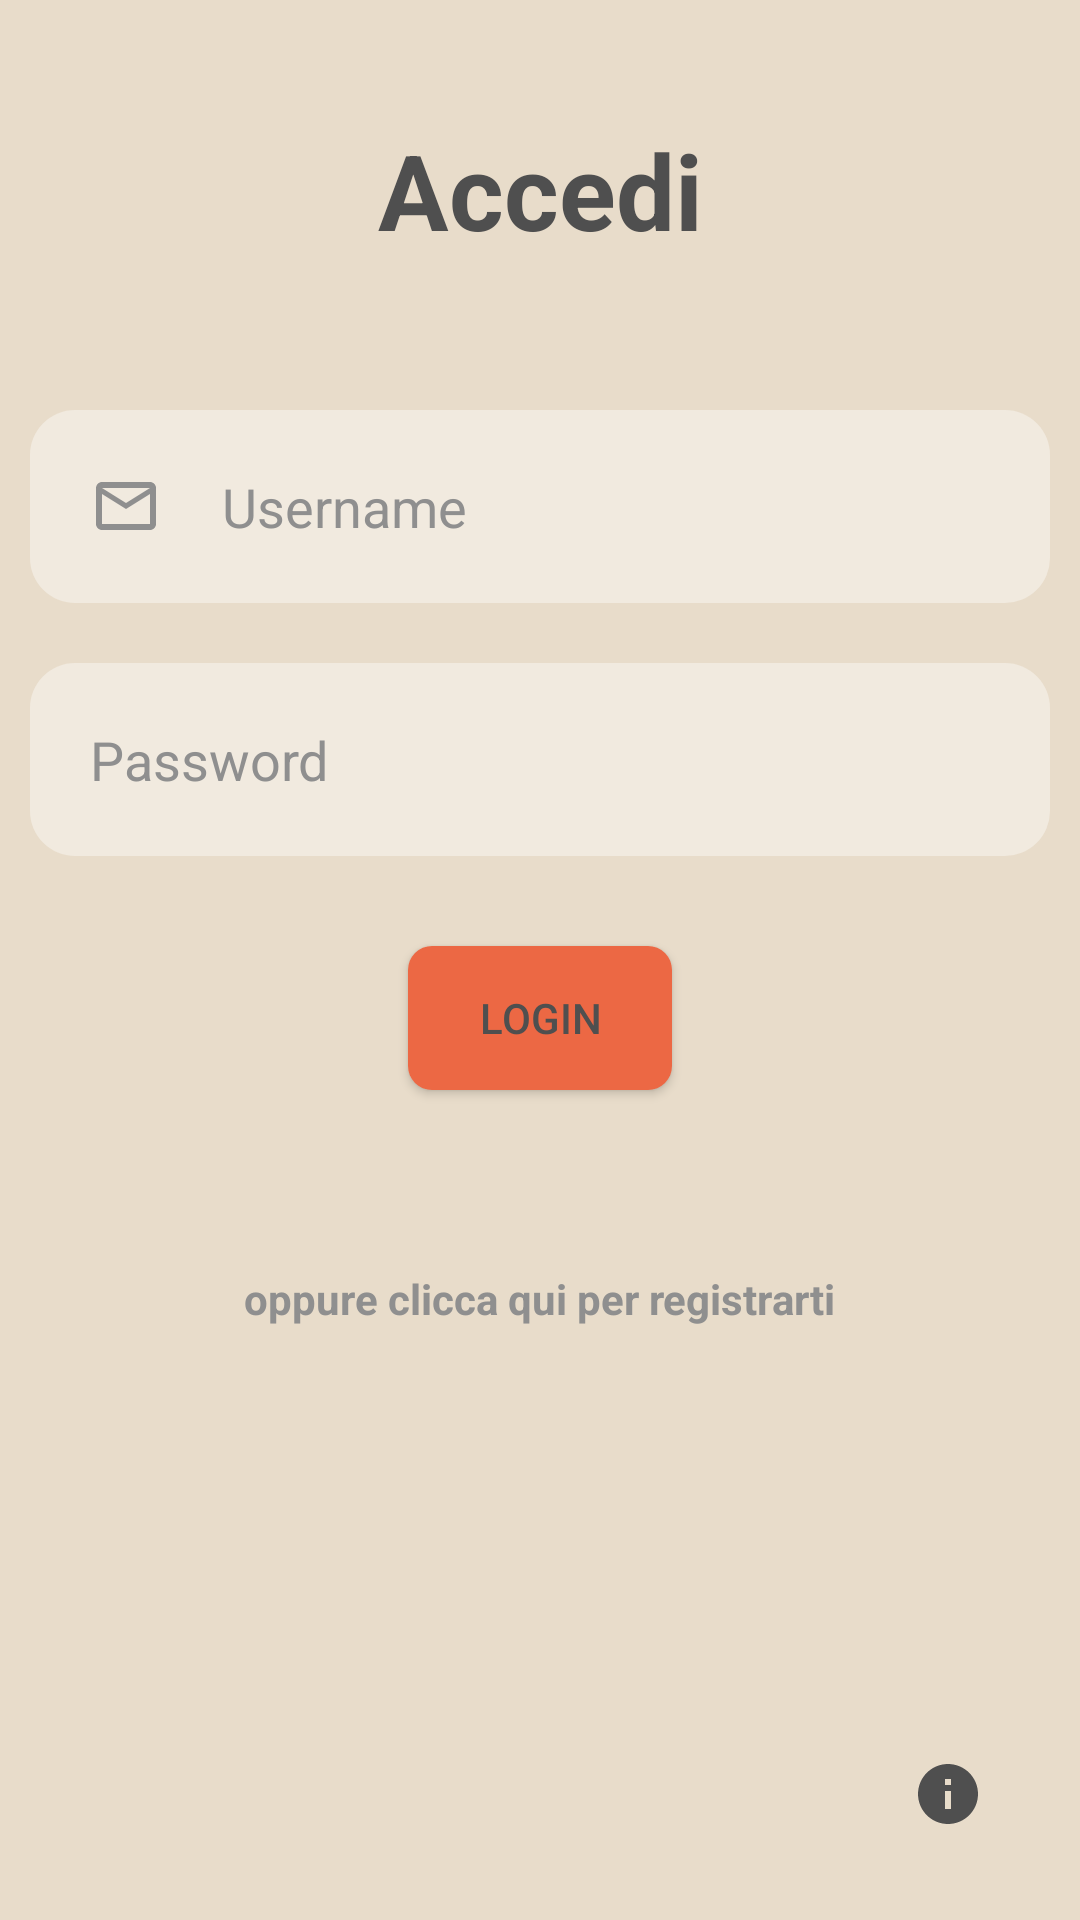

Where to tap for icons on this 1080x1920 app screen, as [x,y]:
info: [948,1794]
